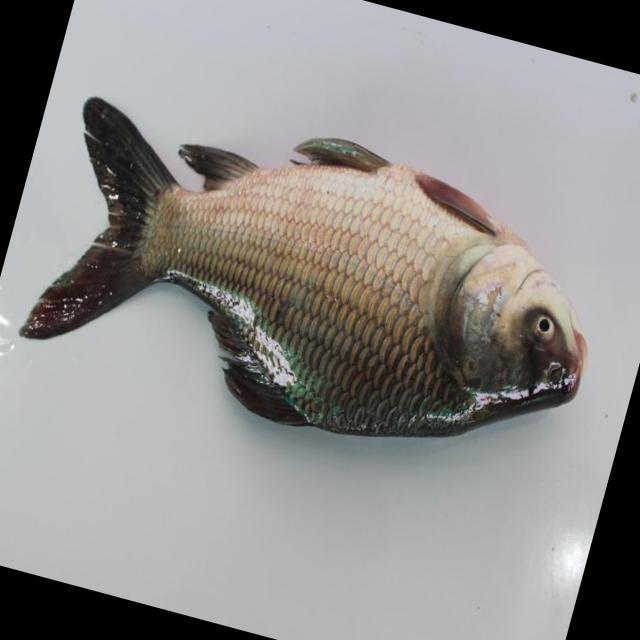Catla: (22, 82, 596, 455)
